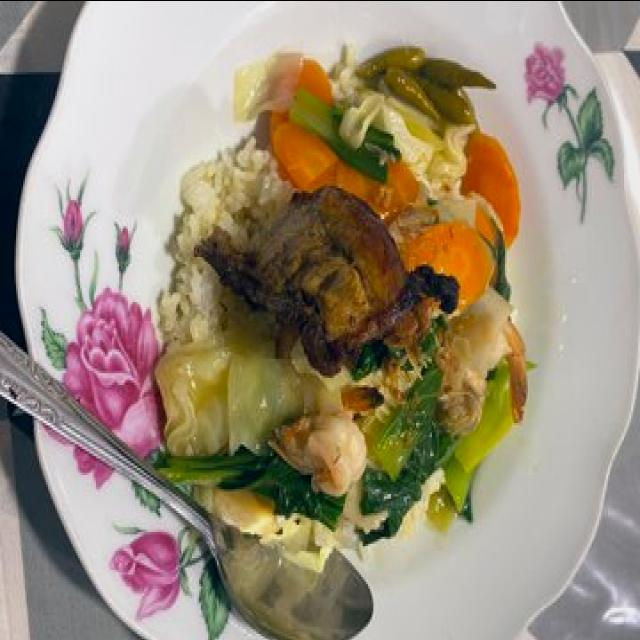capcay: (148, 45, 535, 640)
